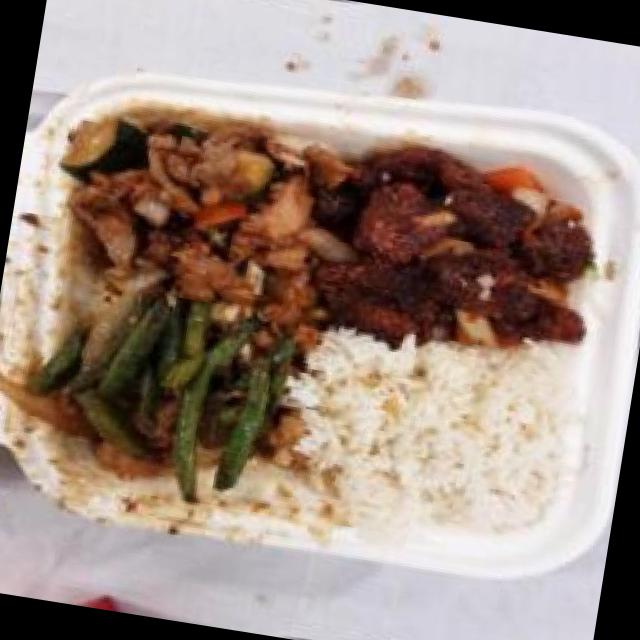Beijing Beef: (302, 117, 618, 377)
Kung Pao Chicken: (36, 80, 358, 338)
String Bean Chicken Breast: (12, 274, 310, 526)
White Steamed Rice: (286, 322, 588, 566)
